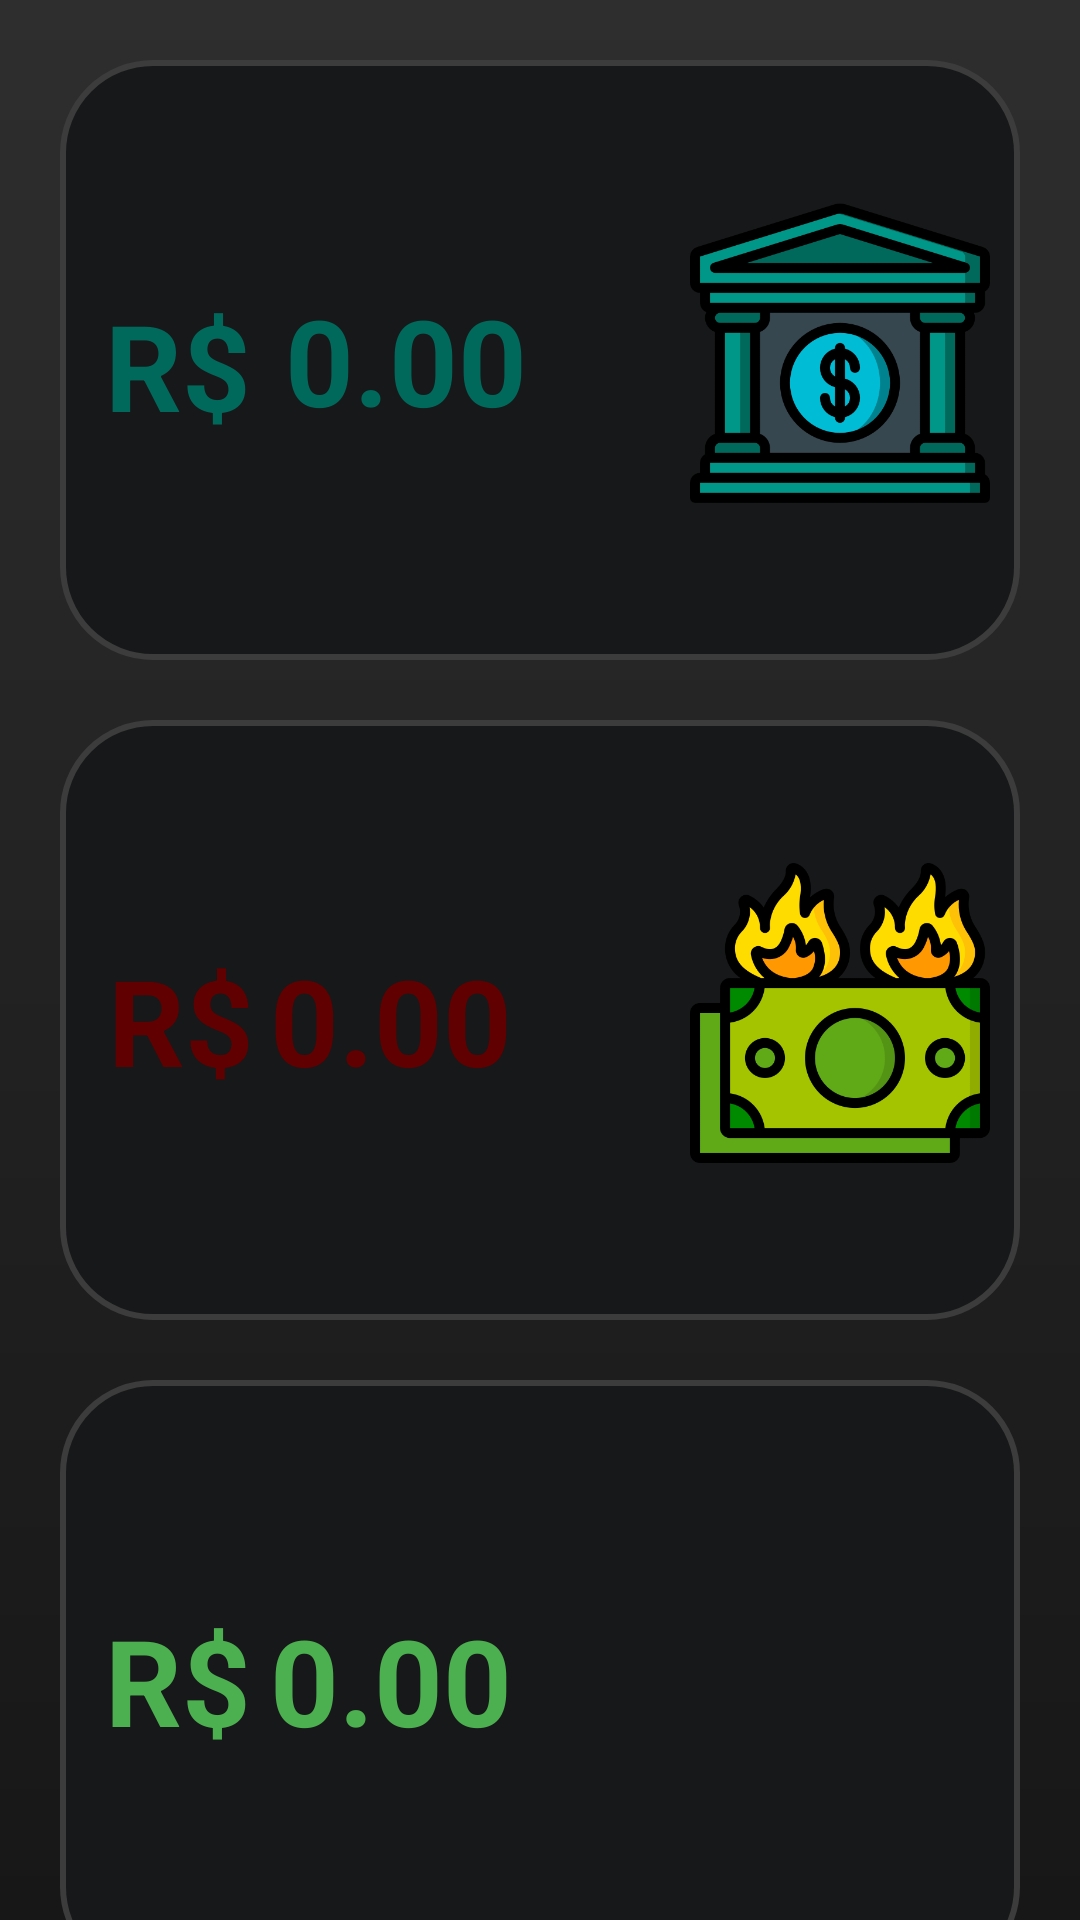

Where to tap for icons on this 1080w x 1920h app screen, as point (x, y):
bank: point (840, 353)
despesas: point (840, 1013)
